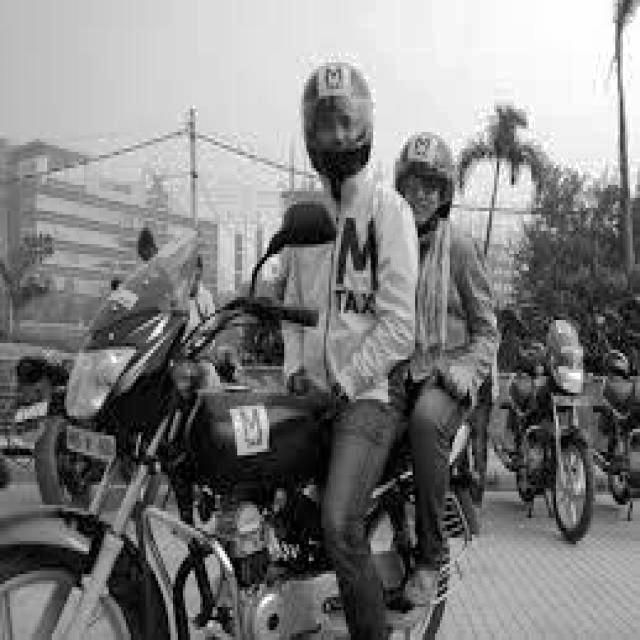Bike: (0, 168, 492, 640), (509, 312, 601, 562)
